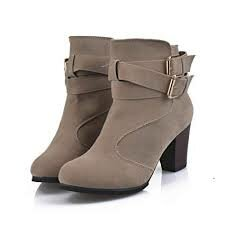Ankle boots: (53, 34, 200, 201), (27, 33, 113, 192)
